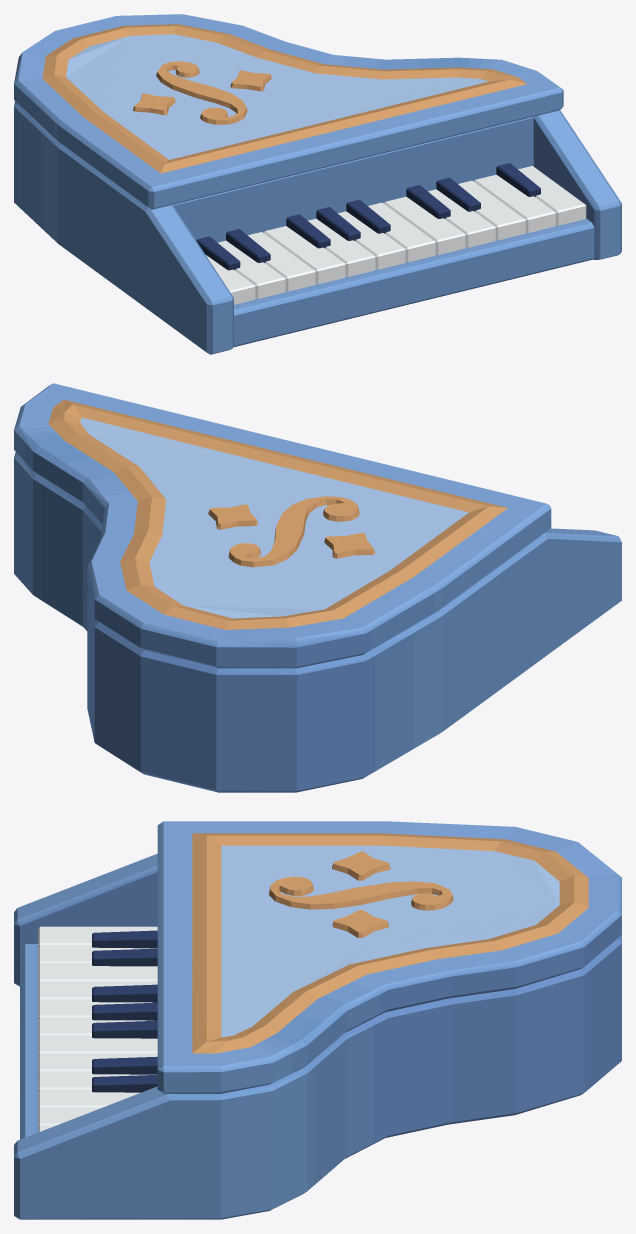
File: CharSkyKid_Prop_AP23PlaceablePianoFancy.glb
The picture shows the model from 3 angles, top to bottom: view 1: azimuth 30°, elevation 25°; view 2: azimuth 150°, elevation 25°; view 3: azimuth 270°, elevation 25°; orthographic projection. The views are drawn at different scales.
Visible parts, largest first — view 1: CharSkyKid_Prop_AP23PlaceablePianoFancy; view 2: CharSkyKid_Prop_AP23PlaceablePianoFancy; view 3: CharSkyKid_Prop_AP23PlaceablePianoFancy.
Part boxes in pixels (x1=…): CharSkyKid_Prop_AP23PlaceablePianoFancy: x1=14, y1=14, x2=621, y2=354; CharSkyKid_Prop_AP23PlaceablePianoFancy: x1=14, y1=383, x2=621, y2=792; CharSkyKid_Prop_AP23PlaceablePianoFancy: x1=14, y1=821, x2=621, y2=1219.
Size of the model in its own units: 4.09 by 1.23 by 4.21.
Materials: 1 (1 with a texture image).
